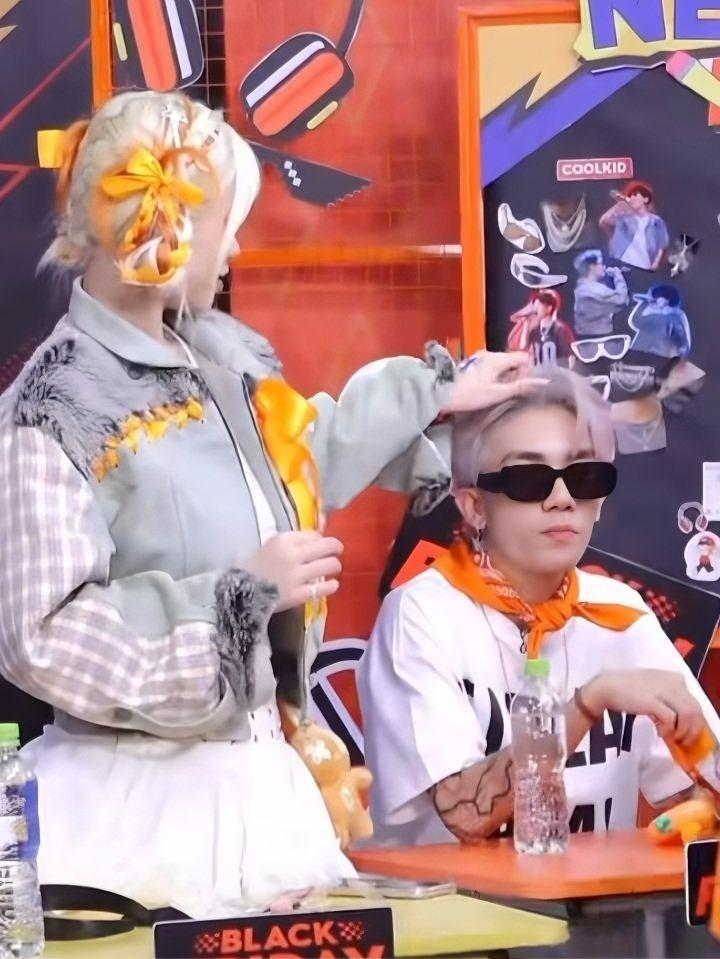non-dog: (0, 85, 537, 934), (354, 368, 720, 846)
